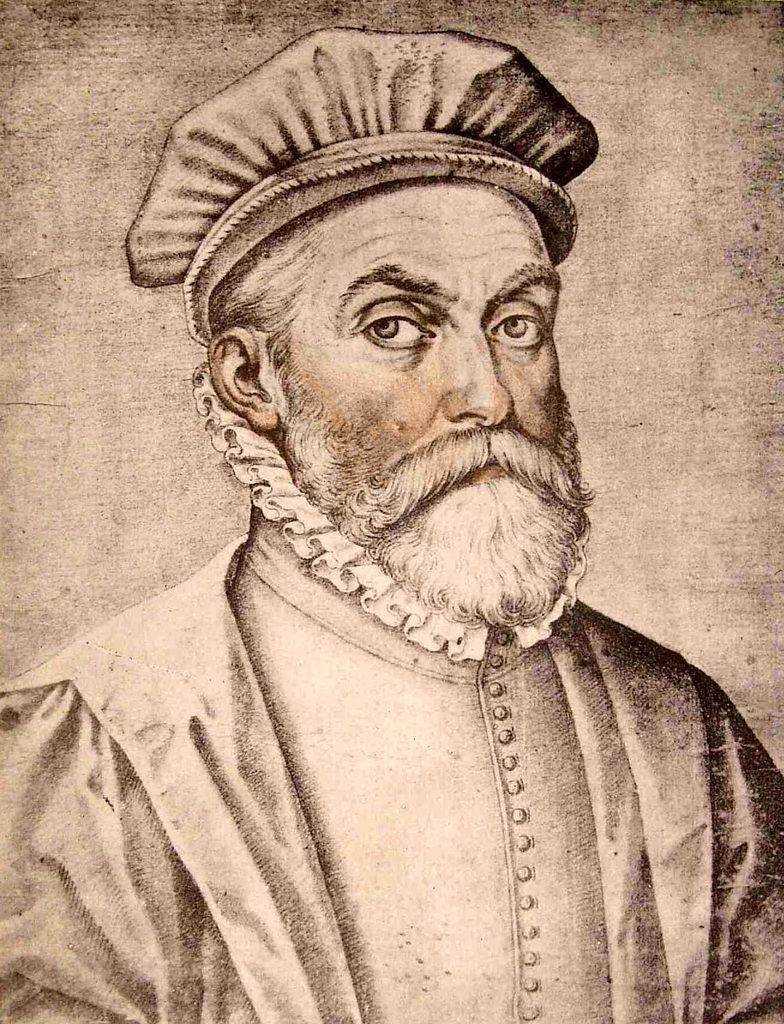face: (313, 144, 556, 669)
